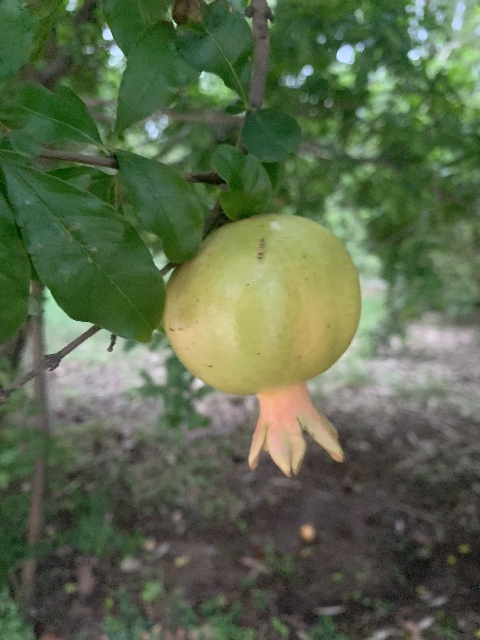mid-growth: (163, 215, 360, 477)
